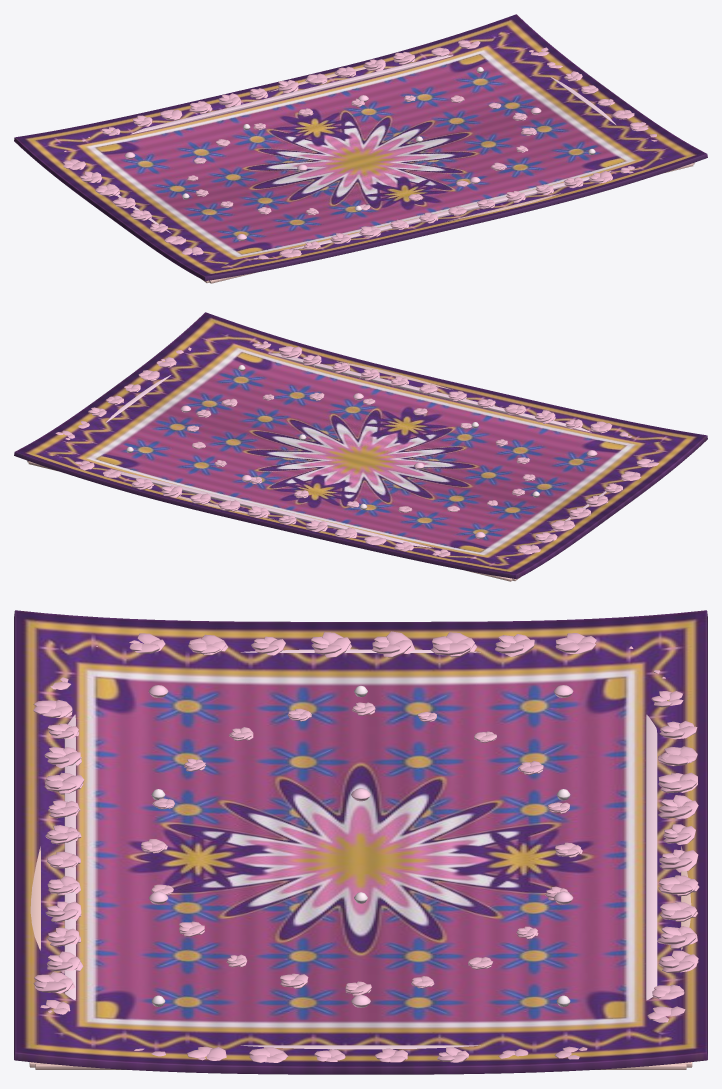
The model's file is carpet.glb.
3 renders of one model, top to bottom at view 1: azimuth 30°, elevation 25°; view 2: azimuth 150°, elevation 25°; view 3: azimuth 270°, elevation 25°, orthographic. The views are drawn at different scales.
Visible parts, largest first — view 1: carpet; view 2: carpet; view 3: carpet.
Part boxes in pixels (x1=…): carpet: x1=14, y1=14, x2=707, y2=283; carpet: x1=14, y1=312, x2=707, y2=581; carpet: x1=14, y1=610, x2=707, y2=1074.
Size of the model in its own units: 2.05 by 0.0827 by 1.35.
6 materials, 1 textured.
